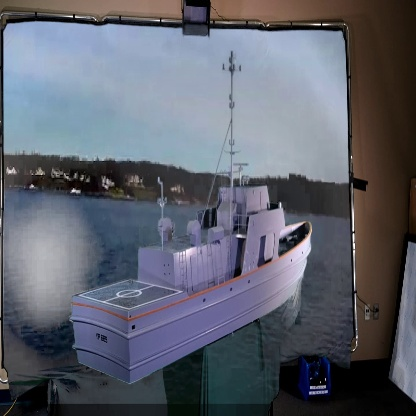YP689: (67, 51, 314, 386)
